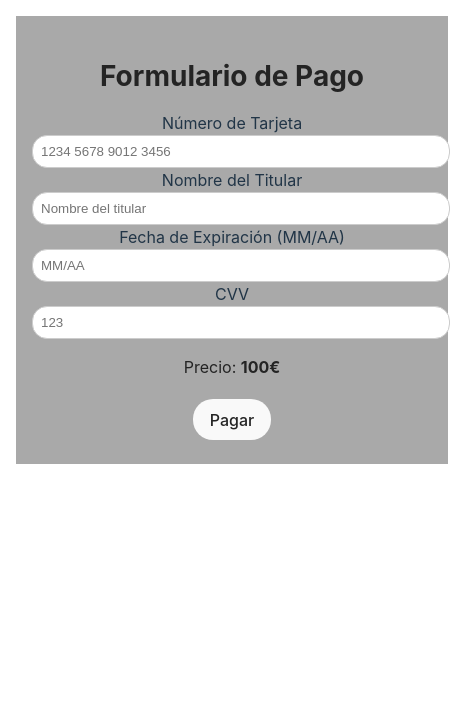
it: PaymentSimulation Component › shows error messages for invalid expiry date format
In the field labelled "Fecha de Expiración (MM/AA)": {"x": 241, "y": 266} [32, 249, 450, 282], type "2024"
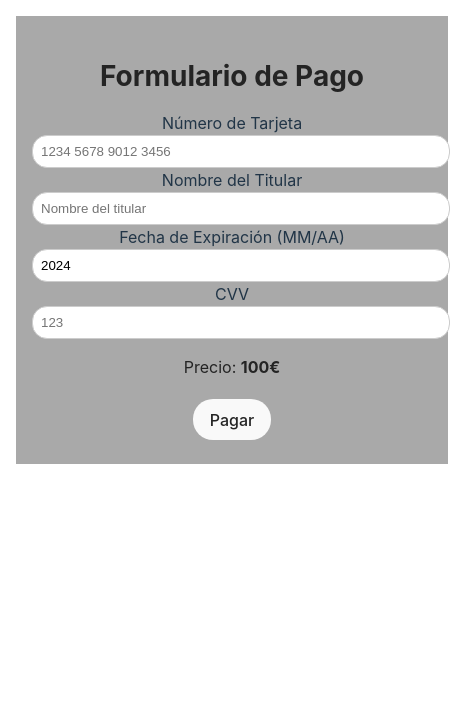
Click the button "Pagar": {"x": 232, "y": 420} [193, 399, 271, 440]
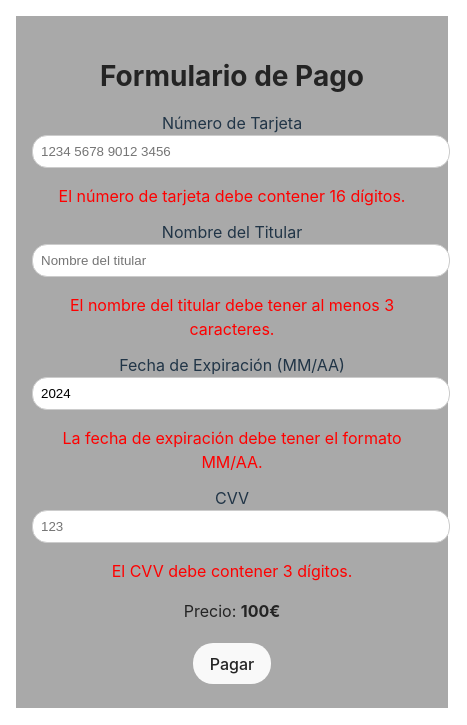
Expected: the text "La fecha de expiración debe tener el formato MM/AA." is shown, [62, 428, 402, 472]
